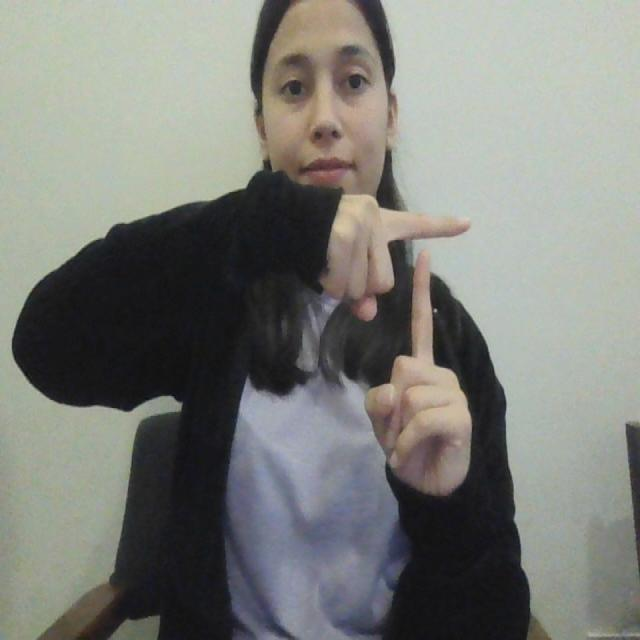Tesekkurler: (369, 194, 480, 386)
